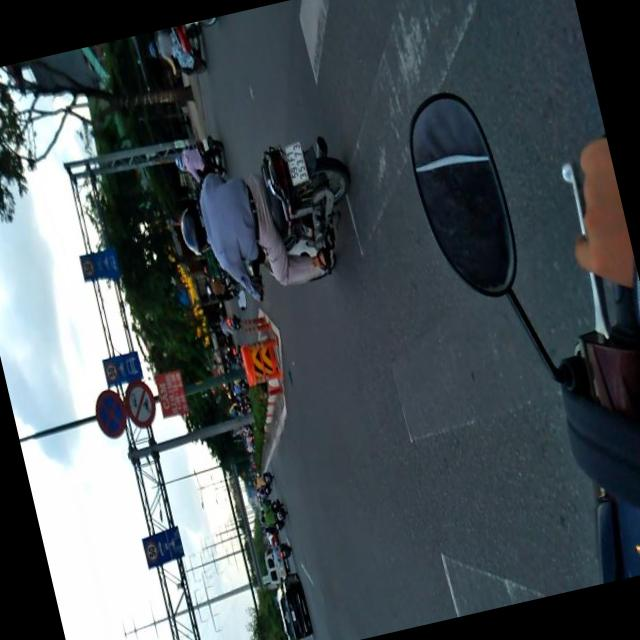P-105: (117, 372, 163, 428)
P-130: (88, 380, 130, 440)
